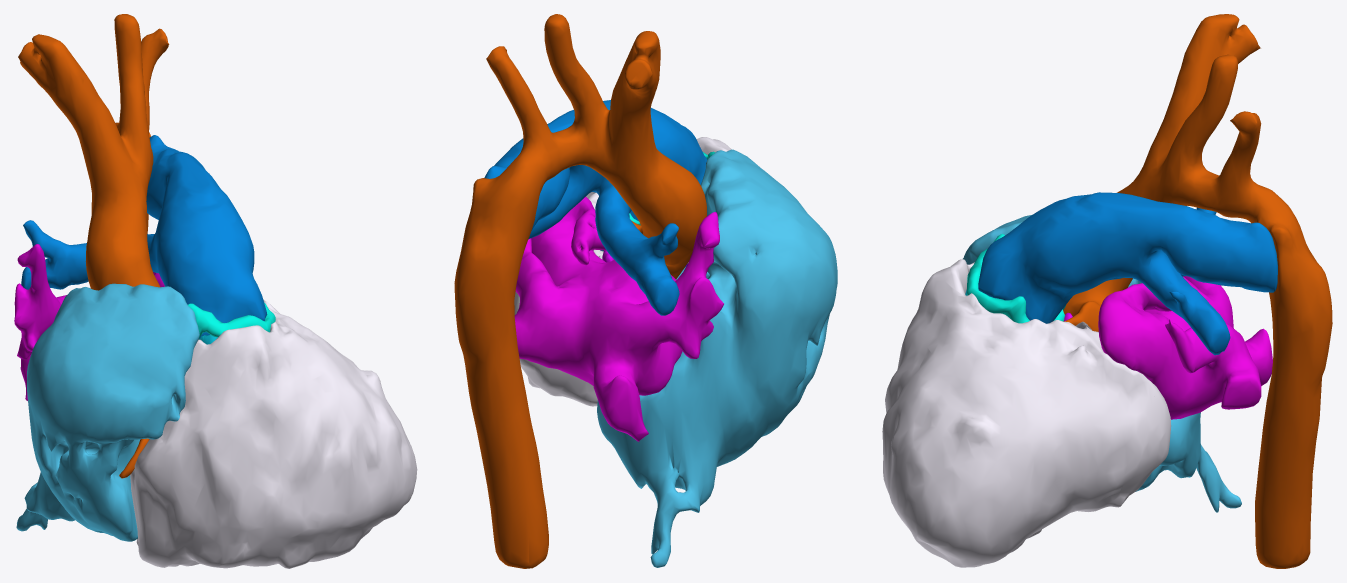
The model's file is HLHS.gltf.
3 renders of one model, left to right at view 1: azimuth 30°, elevation 25°; view 2: azimuth 150°, elevation 25°; view 3: azimuth 270°, elevation 25°, orthographic. The views are drawn at different scales.
Visible parts, largest first — view 1: ventricles, ra, aorta, pa, la, pv; view 2: aorta, ra, la, pa, ventricles; view 3: ventricles, aorta, pa, la, ra, pv.
Part boxes in pixels (x1,y1,x2,y2): ventricles: [130, 299, 417, 568]; ra: [16, 283, 199, 541]; aorta: [18, 14, 169, 478]; pa: [21, 135, 267, 338]; la: [14, 244, 164, 400]; pv: [188, 302, 275, 339]; aorta: [454, 14, 706, 568]; ra: [597, 149, 837, 567]; la: [514, 196, 723, 441]; pa: [484, 100, 707, 315]; ventricles: [514, 137, 731, 406]; ventricles: [882, 259, 1171, 567]; aorta: [1063, 14, 1332, 568]; pa: [978, 192, 1277, 355]; la: [1098, 276, 1272, 419]; ra: [963, 214, 1241, 512]; pv: [967, 233, 1065, 323].
Bounding box in the file's own units: 49.05 × 68.61 × 55.66.
